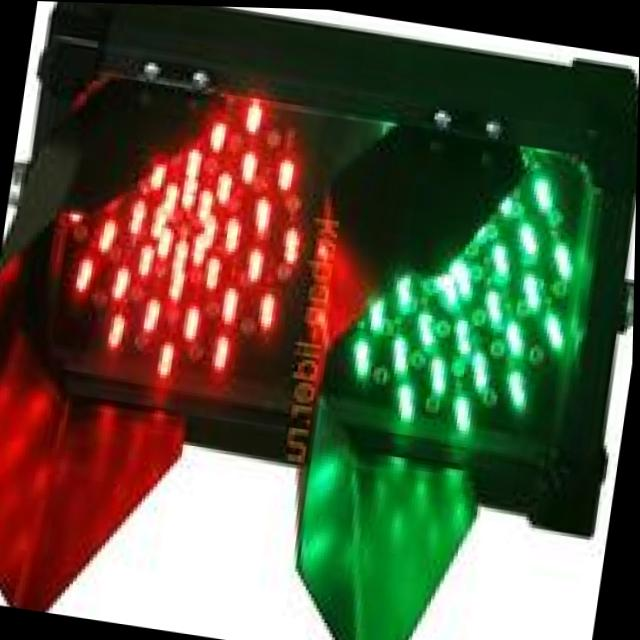green_light: (251, 6, 640, 626)
red_light: (0, 71, 322, 385)
